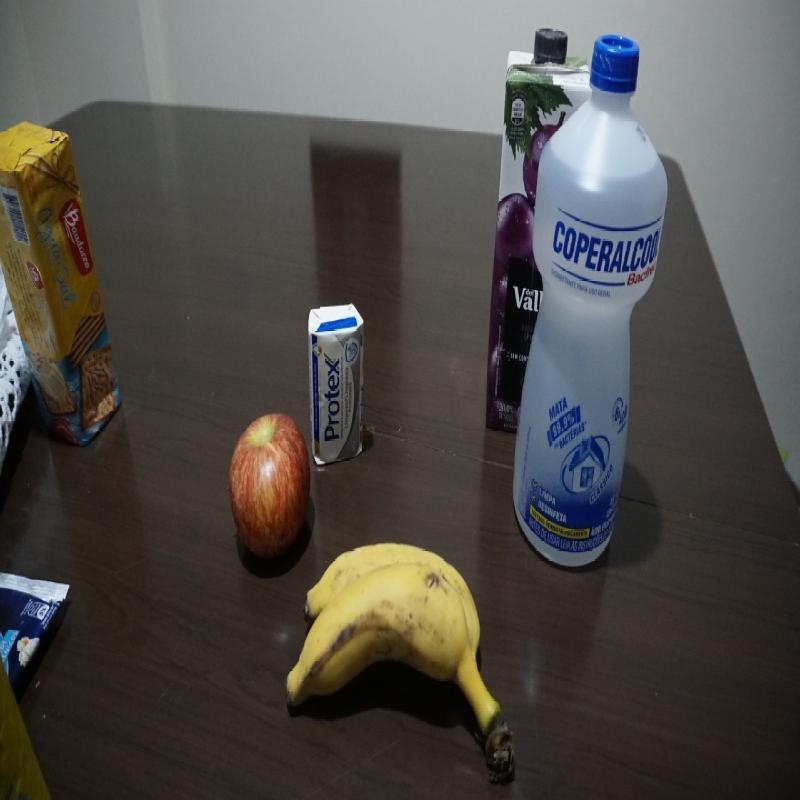Alcohol Bottle: (511, 32, 670, 571)
Apple: (229, 413, 313, 565)
Banana: (284, 541, 516, 776)
Cracker: (1, 114, 125, 456)
Popcorn: (1, 559, 72, 689)
Soap: (303, 300, 367, 466)
